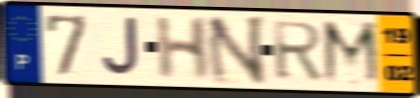7: (43, 13, 89, 78)
H: (154, 15, 211, 81)
J: (100, 16, 140, 79)
M: (320, 18, 385, 88)
N: (204, 14, 268, 86)
R: (270, 20, 326, 83)
